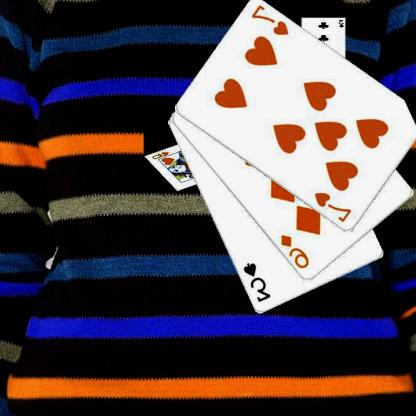3S: (242, 261, 274, 304)
7H: (250, 2, 292, 37), (314, 190, 354, 224)
9D: (280, 233, 312, 270)
